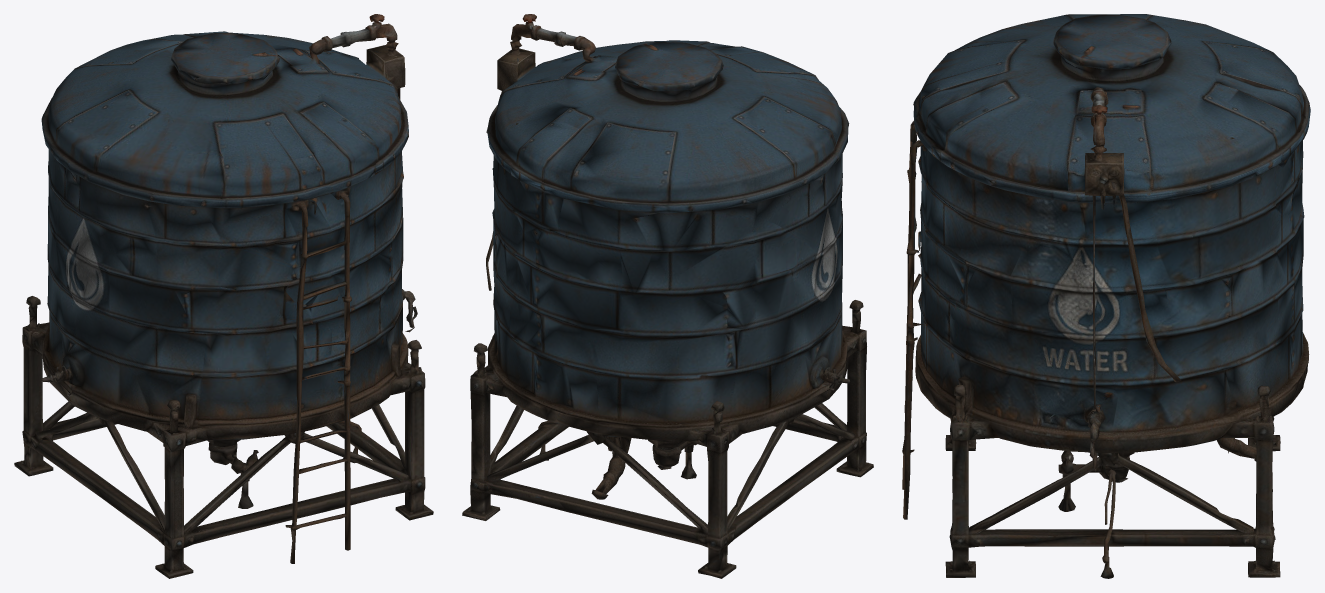
The model's file is tank_water.glb.
The picture shows the model from 3 angles, left to right: view 1: azimuth 30°, elevation 25°; view 2: azimuth 150°, elevation 25°; view 3: azimuth 270°, elevation 25°; orthographic projection. The views are drawn at different scales.
Visible parts, largest first — view 1: tank_water; view 2: tank_water; view 3: tank_water.
Part boxes in pixels (<box>): tank_water: <box>14,14,433,578</box>; tank_water: <box>462,14,873,578</box>; tank_water: <box>902,14,1310,578</box>.
Bounding box in the file's own units: 164 × 190 × 146.
1 material, 1 textured.
